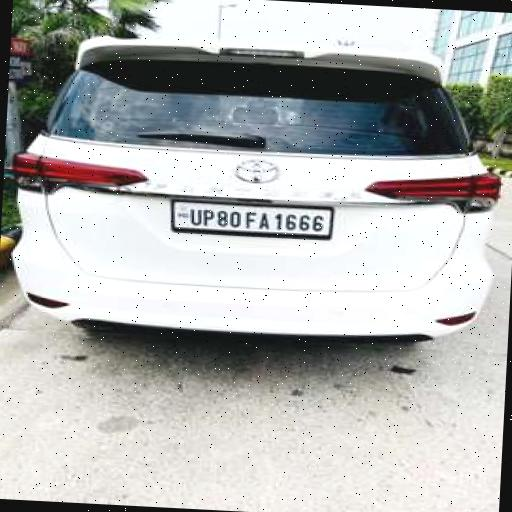license_plate`: (171, 198, 328, 234)
